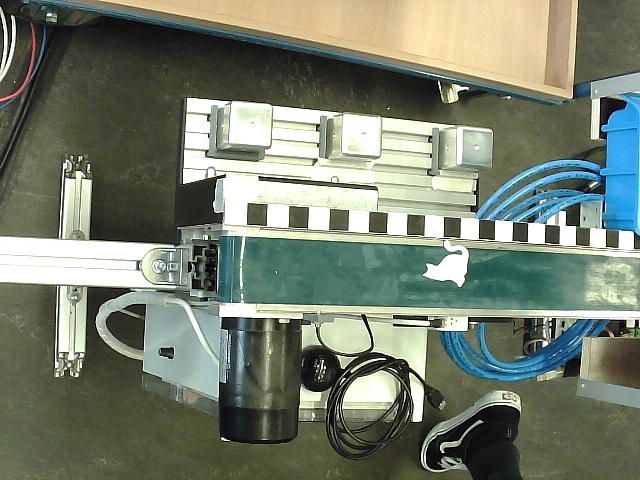cat: (422, 240, 470, 288)
